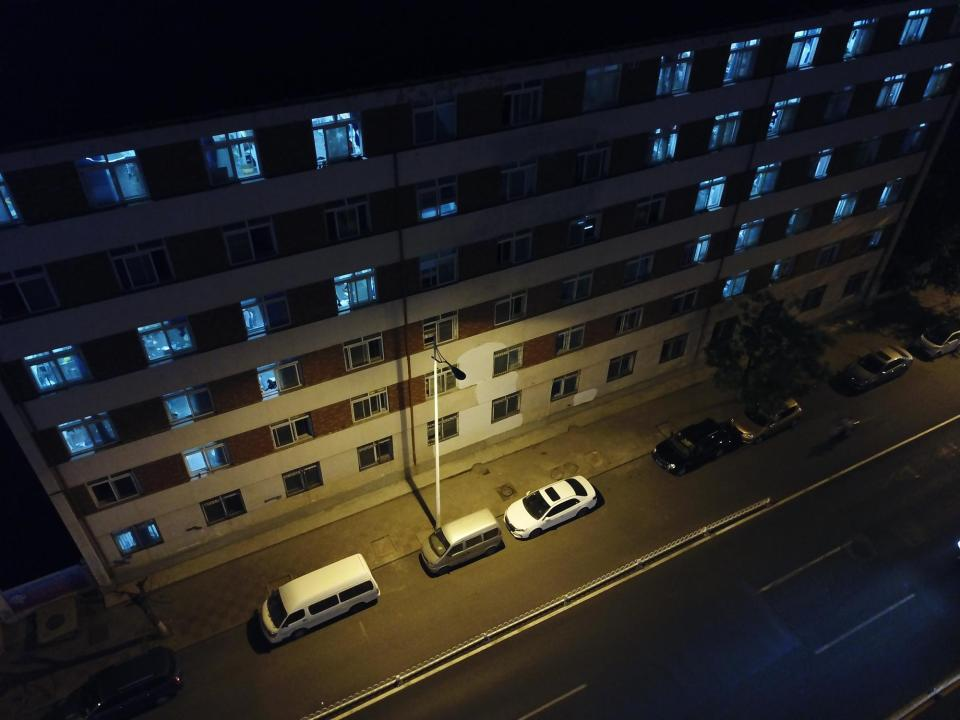car: (504, 475, 597, 538), (841, 346, 913, 389)
van: (259, 554, 381, 644), (64, 647, 184, 719), (420, 508, 502, 574), (652, 419, 731, 476), (732, 393, 801, 444), (914, 321, 960, 360)
